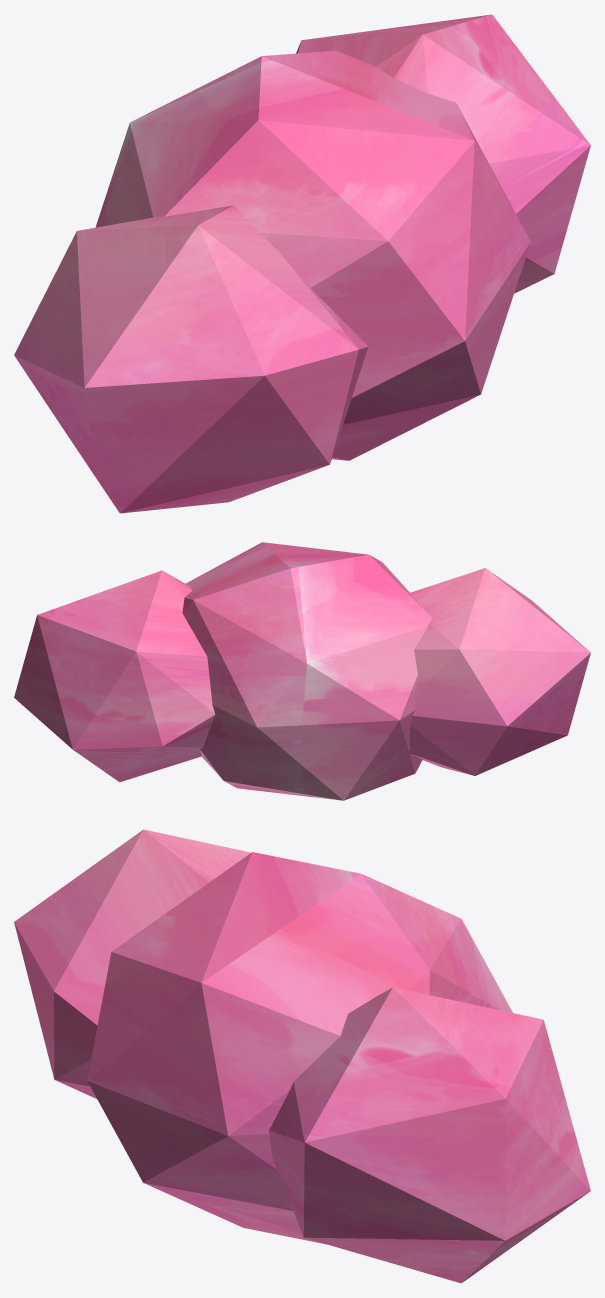
Rendered from Cloud1.fbx.
3 renders of one model, top to bottom at view 1: azimuth 30°, elevation 25°; view 2: azimuth 150°, elevation 25°; view 3: azimuth 270°, elevation 25°, orthographic. The views are drawn at different scales.
Parts seen in each view (by area): view 1: Cloud_1; view 2: Cloud_1; view 3: Cloud_1.
Boxes of the visible parts, box(x1,y1,x2,y2) form: Cloud_1: box(14, 14, 590, 513); Cloud_1: box(14, 542, 590, 800); Cloud_1: box(14, 829, 590, 1283).
Size of the model in its own units: 29.23 by 15.46 by 23.59.
1 material, 1 textured.
